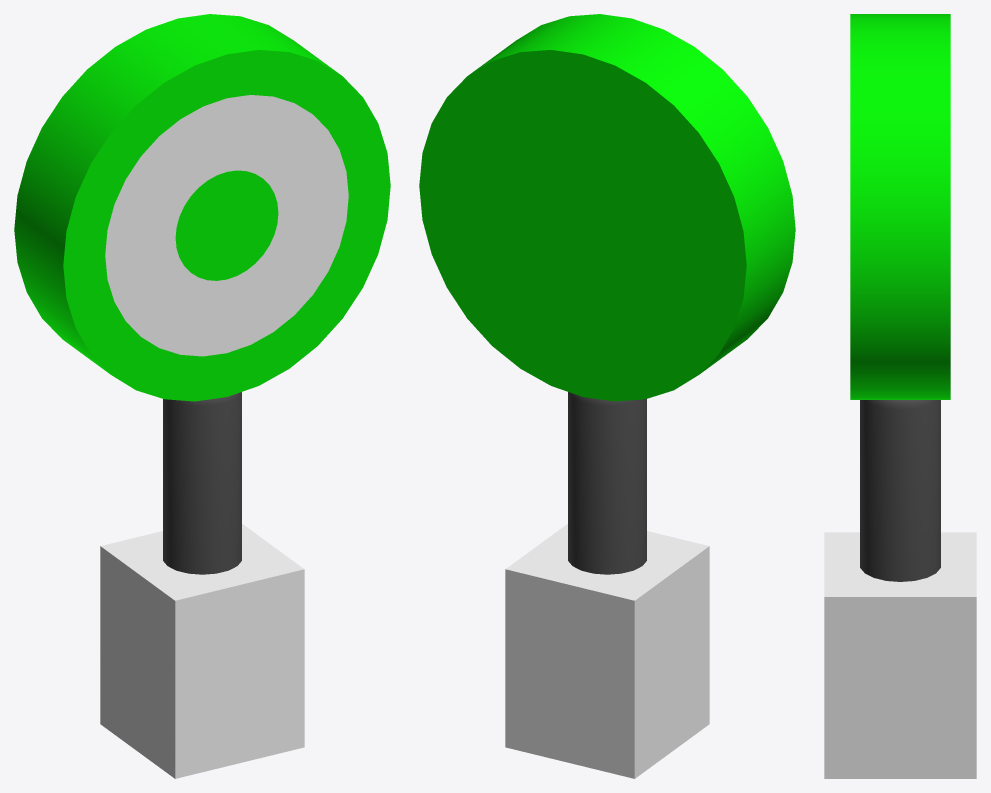
File: Yesil_Buyuk_Hedef.FBX
The picture shows the model from 3 angles, left to right: view 1: azimuth 30°, elevation 25°; view 2: azimuth 150°, elevation 25°; view 3: azimuth 270°, elevation 25°; orthographic projection. The views are drawn at different scales.
Parts seen in each view (by area): view 1: Kirmizi_Buyuk_Hedef; view 2: Kirmizi_Buyuk_Hedef; view 3: Kirmizi_Buyuk_Hedef.
Part boxes in pixels (left/top/right/bottom): Kirmizi_Buyuk_Hedef: left=14, top=14, right=390, bottom=778; Kirmizi_Buyuk_Hedef: left=419, top=14, right=795, bottom=778; Kirmizi_Buyuk_Hedef: left=824, top=14, right=976, bottom=778.
Bounding box in the file's own units: 188 × 384 × 74.34.
